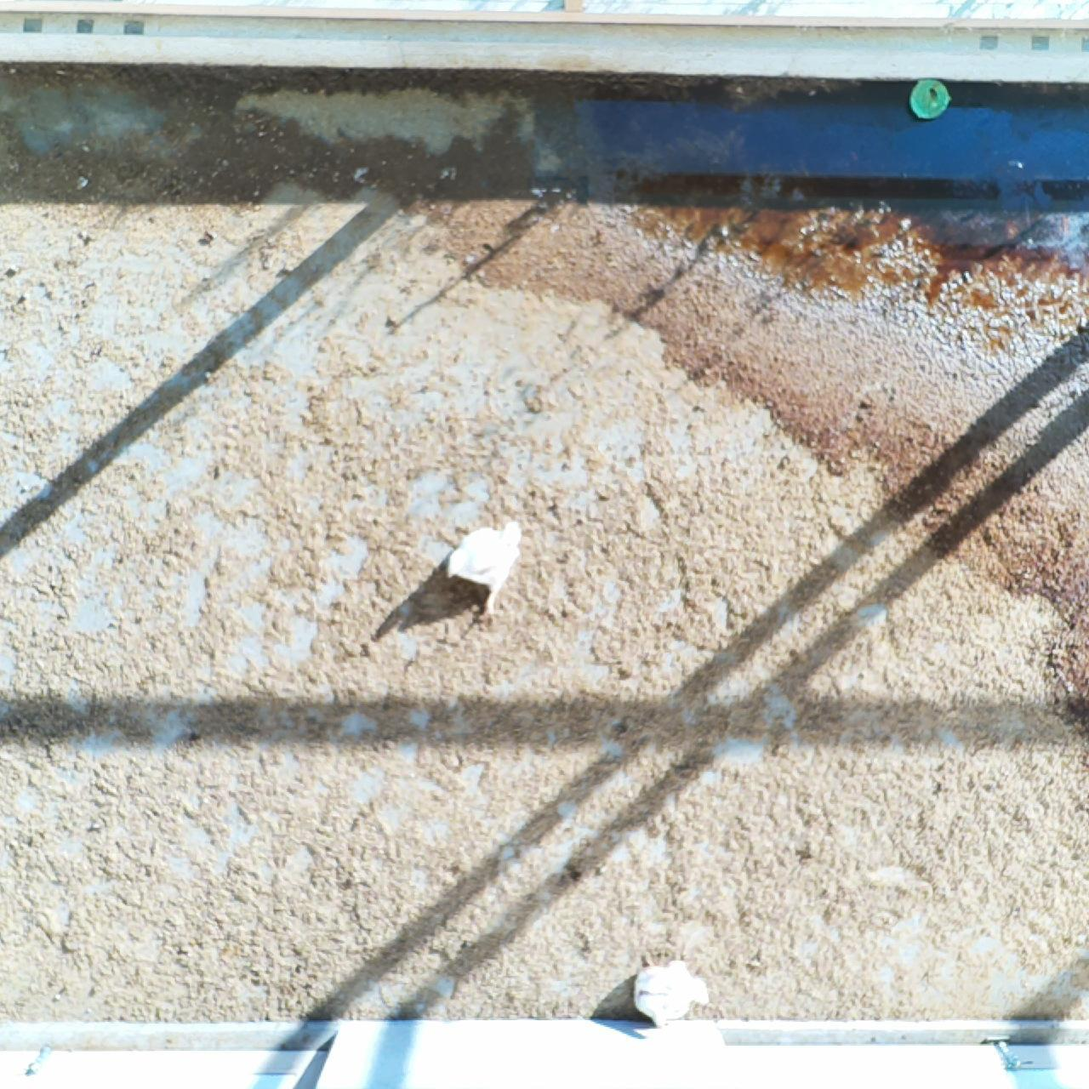chicken: (443, 519, 524, 624), (631, 958, 712, 1029)
